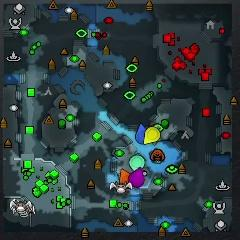p1: (136, 124, 148, 145)
p2: (129, 154, 145, 172)
p3: (128, 167, 144, 187)
p4: (144, 127, 160, 144)
p5: (119, 169, 131, 184)
